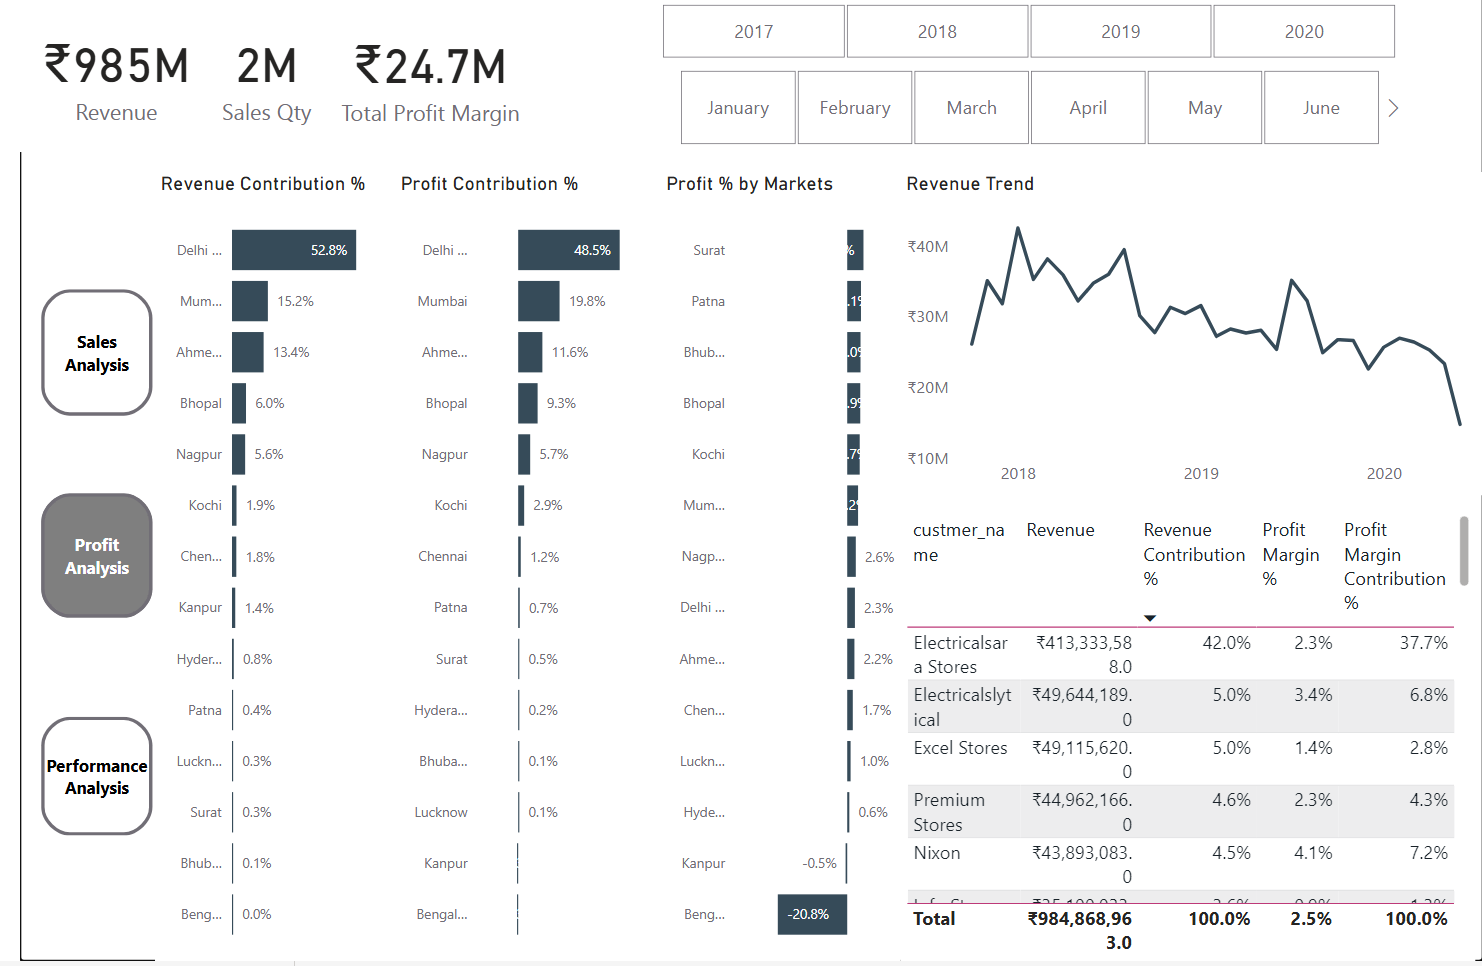

The dashboard page shown, as its layout file describes it:
{"tool":"powerbi","page":{"name":"Profit Analysis","canvas":[1280,850],"ordinal":1},"visuals":[{"type":"card","fields":{"Values":["BaseMeasures.Revenue"]},"box":[0,6,168,136],"z":0},{"type":"actionButton","box":[10,628.3,113.3,120],"z":0,"group":"g1"},{"type":"card","fields":{"Values":["BaseMeasures.Sales Qty"]},"box":[158.3,6.7,113.3,135.8],"z":1000},{"type":"actionButton","box":[10,433.3,113.3,125],"z":1000,"group":"g1"},{"type":"barChart","title":"Profit % by Markets","fields":{"Category":["sales markets.markets_name"],"Y":["BaseMeasures.Profit Margin %"]},"box":[560,160,210,690],"z":2000},{"type":"actionButton","box":[10,255,113.3,126.7],"z":2000,"group":"g1"},{"type":"barChart","title":"Profit Contribution %","fields":{"Y":["BaseMeasures.Profit Margin Contribution %"],"Category":["sales markets.markets_name"]},"box":[327.5,160,237.5,690],"z":3000},{"type":"slicer","fields":{"Values":["sales date.year"]},"box":[536,6,690,60],"z":4000},{"type":"slicer","fields":{"Values":["sales date.cy_date.Variation.Date Hierarchy.Month"]},"box":[552,64,660,78],"z":5000},{"type":"lineChart","title":"Revenue Trend","fields":{"Y":["BaseMeasures.Revenue"],"Category":["sales date.cy_date"]},"box":[770,160,510,282.5],"z":8000},{"type":"card","fields":{"Values":["BaseMeasures.Total Profit Margin"]},"box":[271.7,4.2,174.2,141.7],"z":9000},{"type":"barChart","title":"Revenue Contribution %","fields":{"Category":["sales markets.markets_name"],"Y":["BaseMeasures.Revenue Contribution %"]},"box":[117.5,160,215,690],"z":9001},{"type":"tableEx","fields":{"Values":["sales customers.custmer_name","BaseMeasures.Revenue","BaseMeasures.Revenue Contribution %","BaseMeasures.Profit Margin %","BaseMeasures.Profit Margin Contribution %"]},"box":[770,455,502.5,395],"z":9002},{"type":"group","id":"g1","title":"Group 1","box":[10,255,113.3,493.3],"z":9003}]}

Visuals, with their boxes in screenshot pixels (x1, y1, x2, y2), scaled from the page's 1280x850 canvas onto the 1482x966 screenshot:
card - BaseMeasures.Revenue: (0, 7, 195, 161)
actionButton: (12, 714, 143, 850)
card - BaseMeasures.Sales Qty: (183, 8, 314, 162)
actionButton: (12, 492, 143, 634)
"Profit % by Markets" barChart: (648, 182, 892, 965)
actionButton: (12, 290, 143, 434)
"Profit Contribution %" barChart: (379, 182, 654, 965)
slicer - sales date.year: (621, 7, 1419, 75)
slicer - sales date.cy_date.Variation.Date Hierarchy.Month: (639, 73, 1403, 161)
"Revenue Trend" lineChart: (892, 182, 1481, 503)
card - BaseMeasures.Total Profit Margin: (315, 5, 516, 166)
"Revenue Contribution %" barChart: (136, 182, 385, 965)
tableEx - sales customers.custmer_name x BaseMeasures.Revenue: (892, 517, 1473, 965)
"Group 1" group: (12, 290, 143, 850)
